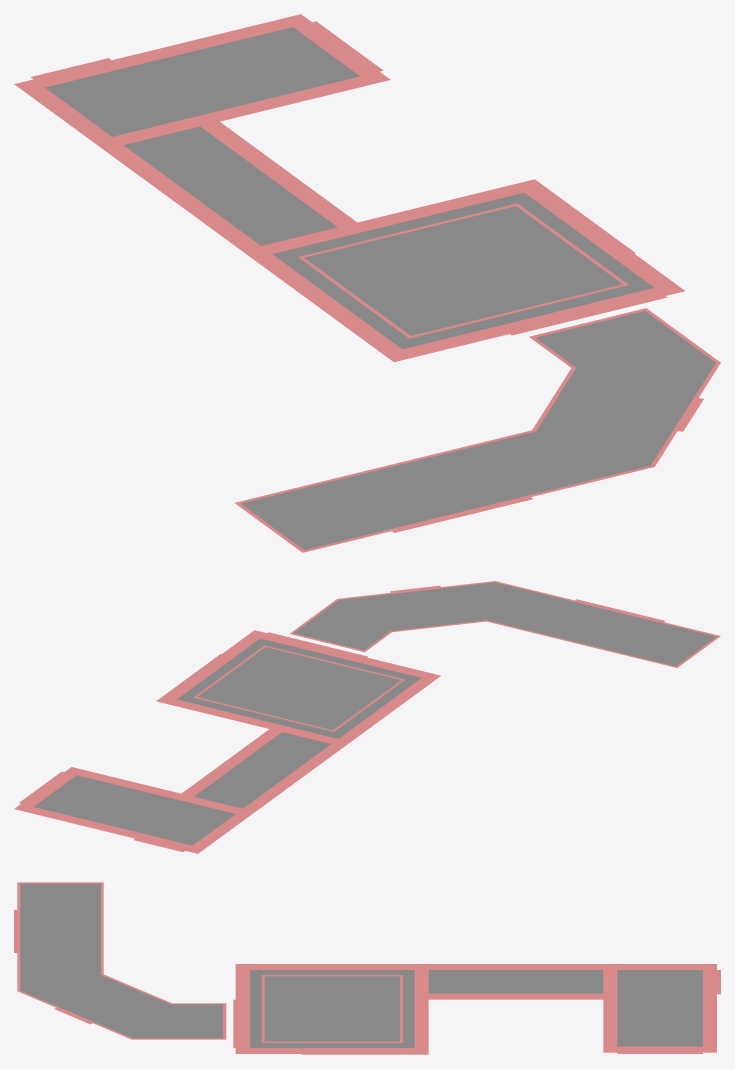
Rendered from S_Envi_Fyz_Building_118a.gltf.
3 renders of one model, top to bottom at view 1: azimuth 30°, elevation 25°; view 2: azimuth 150°, elevation 25°; view 3: azimuth 270°, elevation 25°, orthographic. The views are drawn at different scales.
Visible parts, largest first — view 1: S_Envi_Fyz_Building_118a; view 2: S_Envi_Fyz_Building_118a; view 3: S_Envi_Fyz_Building_118a.
Part boxes in pixels (x1,y1,x2,y2): S_Envi_Fyz_Building_118a: (14,14,720,552); S_Envi_Fyz_Building_118a: (14,581,720,853); S_Envi_Fyz_Building_118a: (14,882,720,1054).
Size of the model in its own units: 23.25 by 3e-06 by 40.36.
